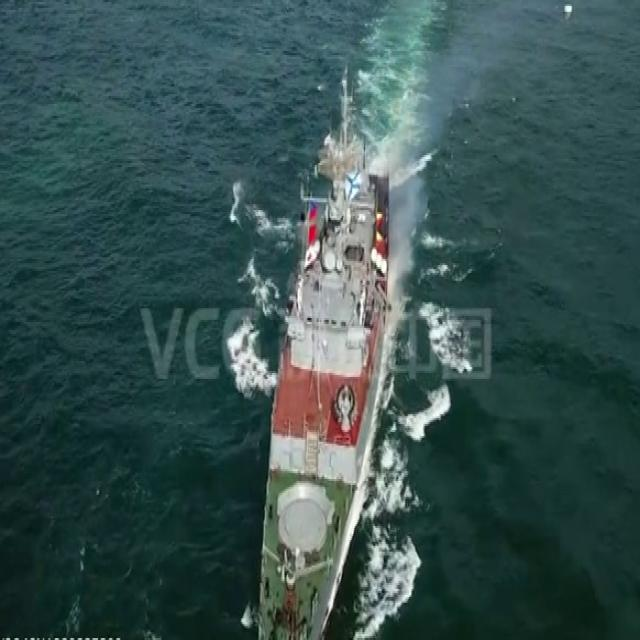navalvessels: (254, 74, 393, 640)
